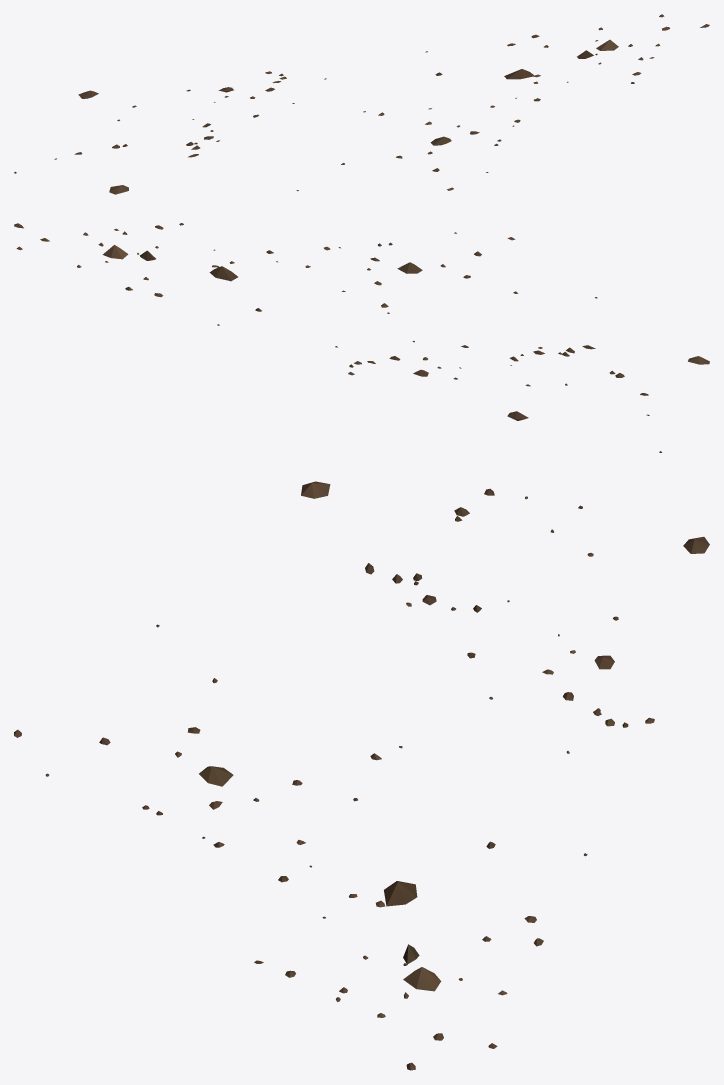
Rendered from ground-3-4.glb.
The picture shows the model from 3 angles, top to bottom: view 1: azimuth 30°, elevation 25°; view 2: azimuth 150°, elevation 25°; view 3: azimuth 270°, elevation 25°; orthographic projection. The views are drawn at different scales.
Parts seen in each view (by area): view 1: ground-3-4; view 2: ground-3-4; view 3: ground-3-4.
Boxes of the visible parts, x1,y1,x2,y2 form: ground-3-4: (14,14,709,194); ground-3-4: (14,223,709,452); ground-3-4: (14,481,709,1070).
Bounding box in the file's own units: 19.34 × 1.03 × 9.39.
